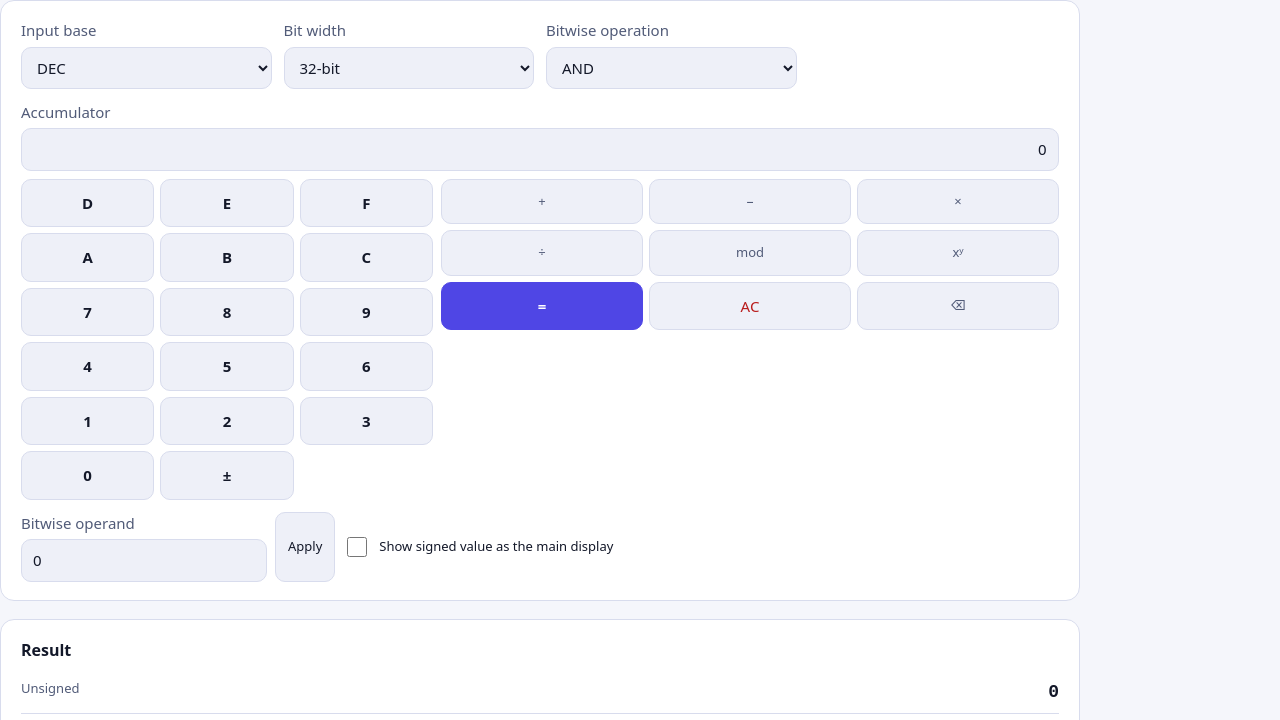
Test: programmer panel › clears back to zero
Replace the text in the field named "Integer input" with "1234" at [540, 149], box [21,128,1059,170]
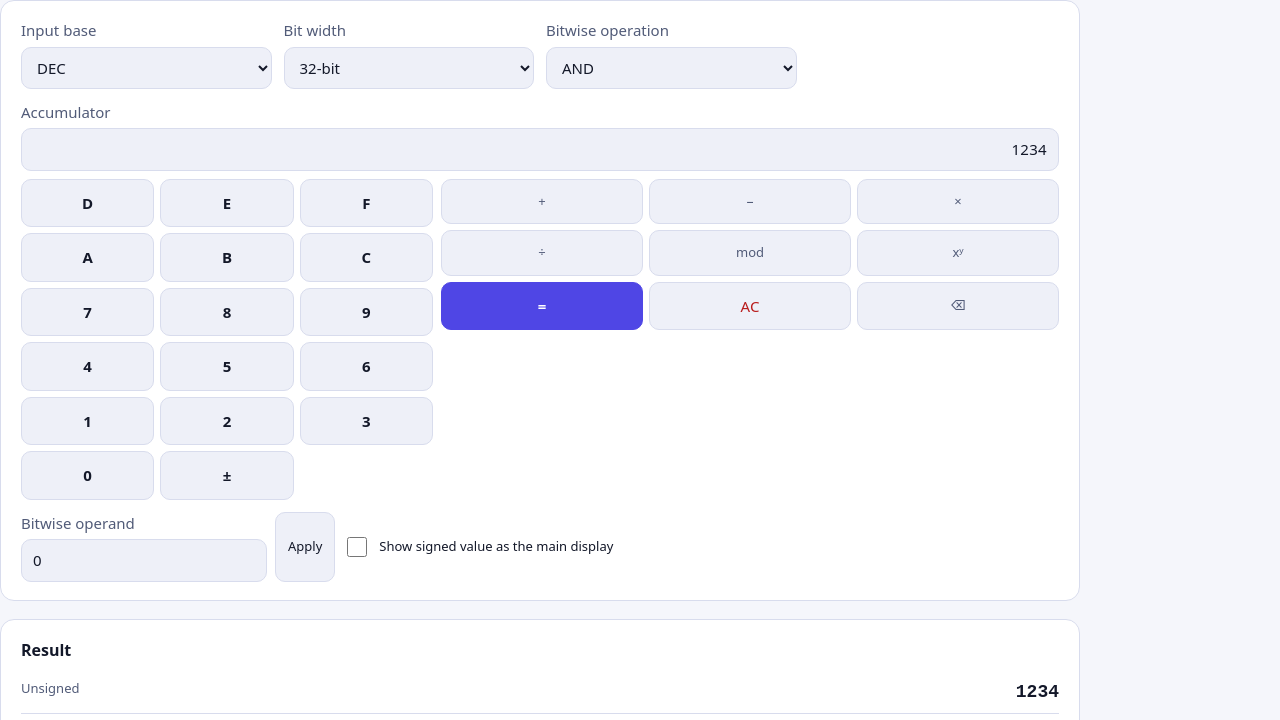
Click the button with aria-label "Clear" at [750, 306], box [649,282,851,330]
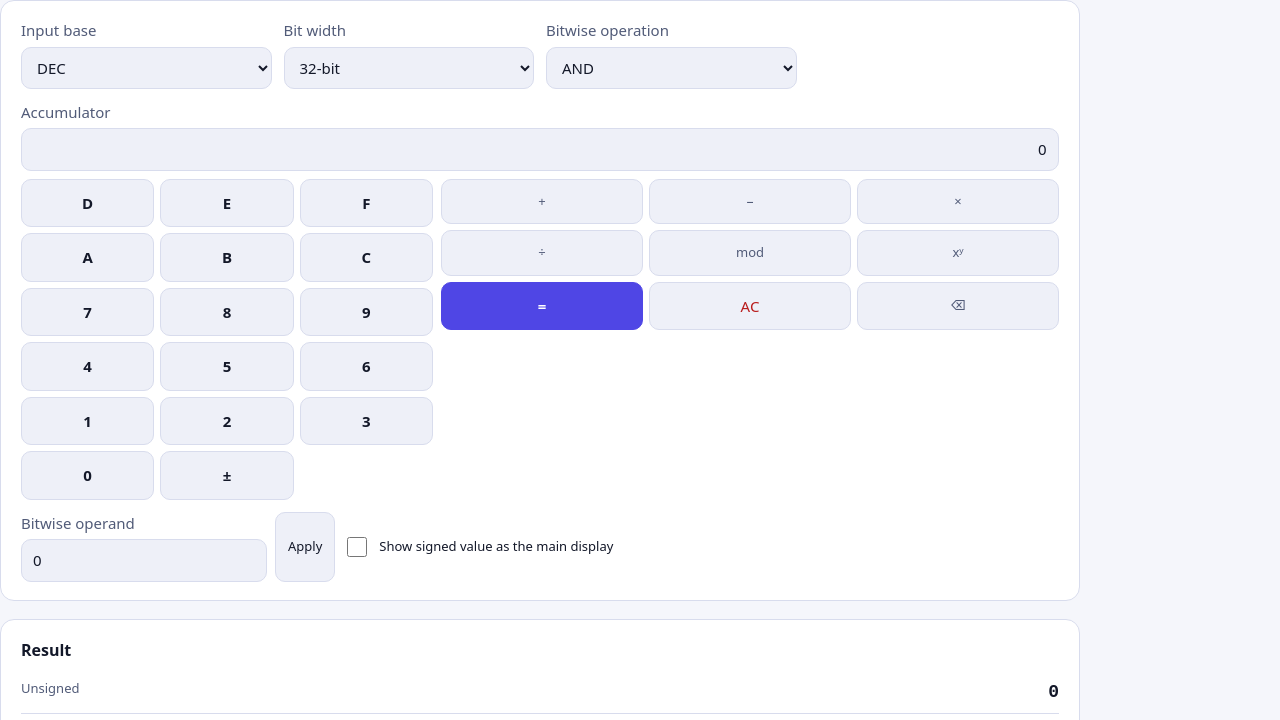
expect the field named "Integer input" holds "0": met, box [21,128,1059,170]
